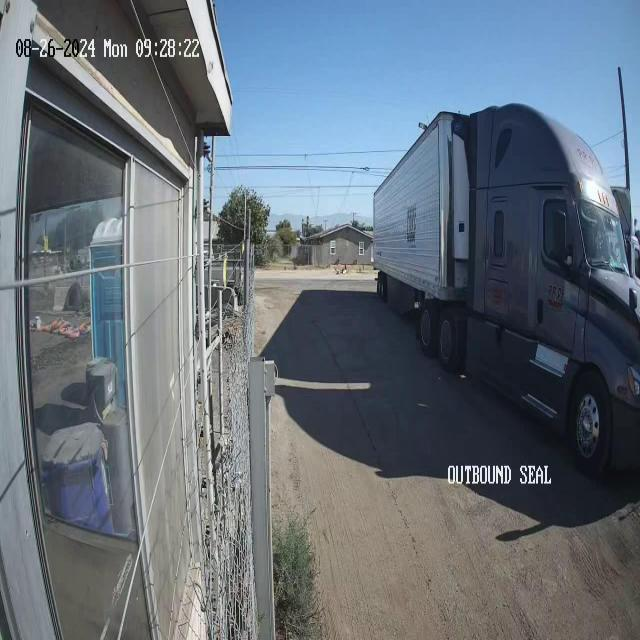TRUCK_CONTAINER: (372, 100, 639, 480)
